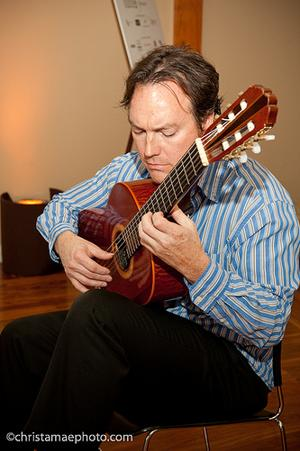person: (2, 44, 300, 448)
